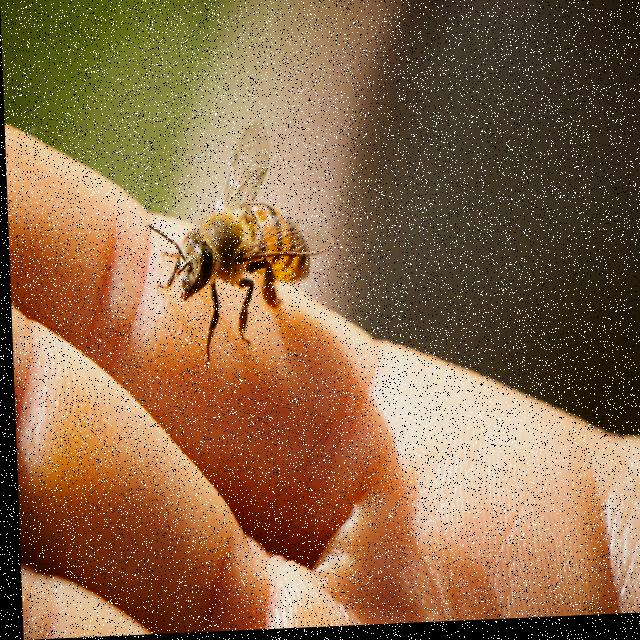Apis-mellifera-scutellata: (154, 122, 347, 391)
